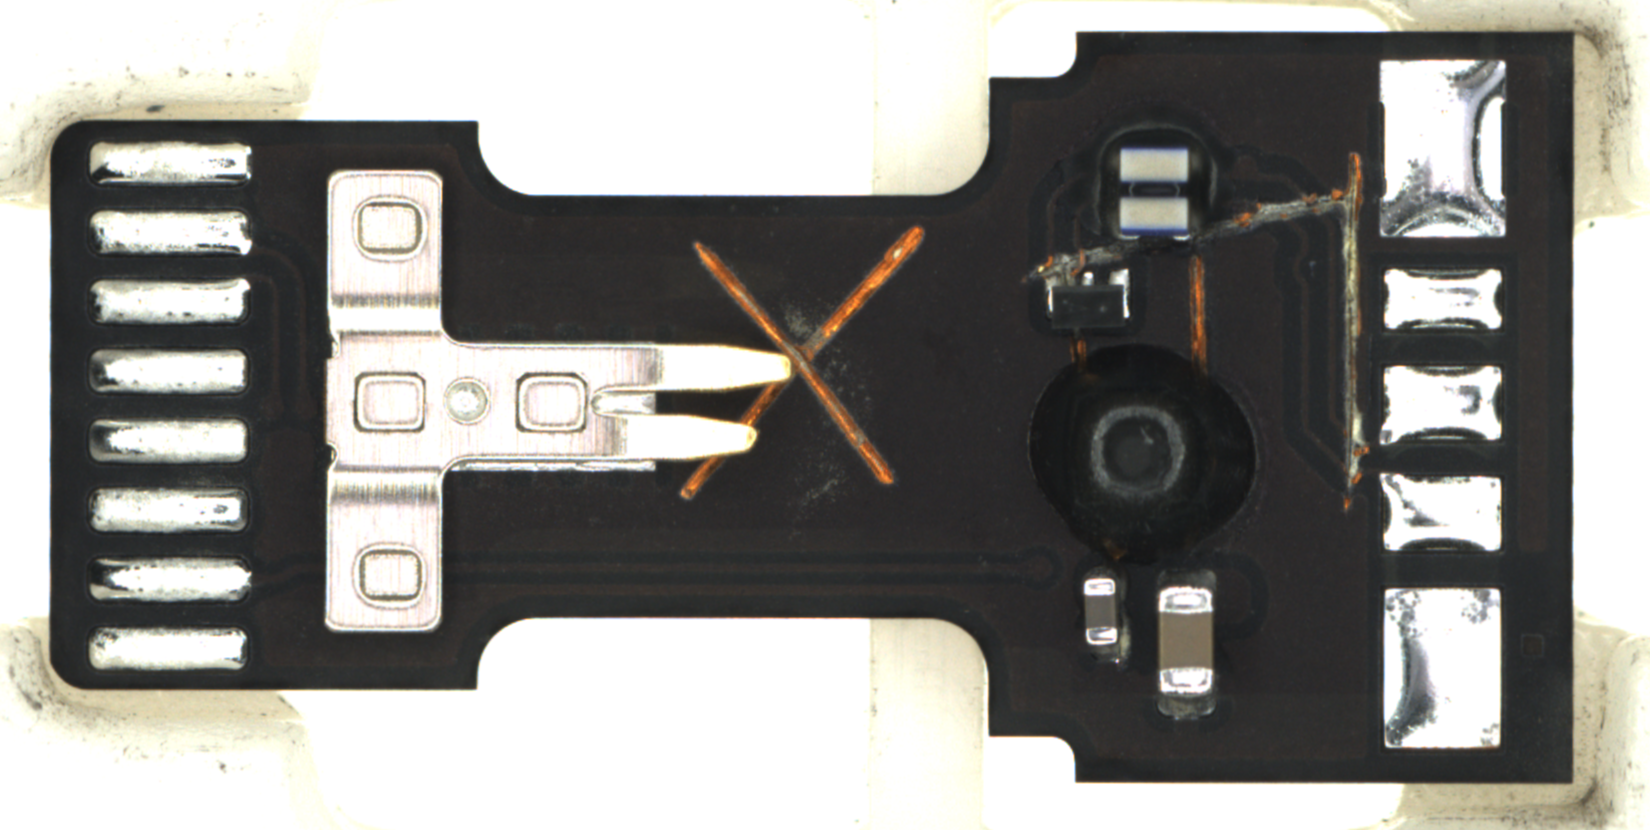bb_x: (677, 220, 929, 503)
